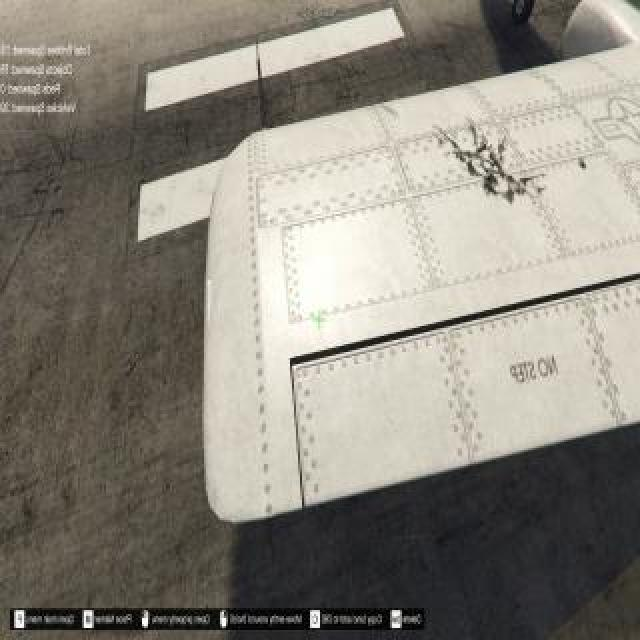crack: (577, 156, 591, 170)
dent: (490, 152, 526, 191), (485, 171, 498, 193), (454, 149, 477, 159), (503, 187, 516, 204), (467, 159, 478, 176), (477, 142, 488, 156)
